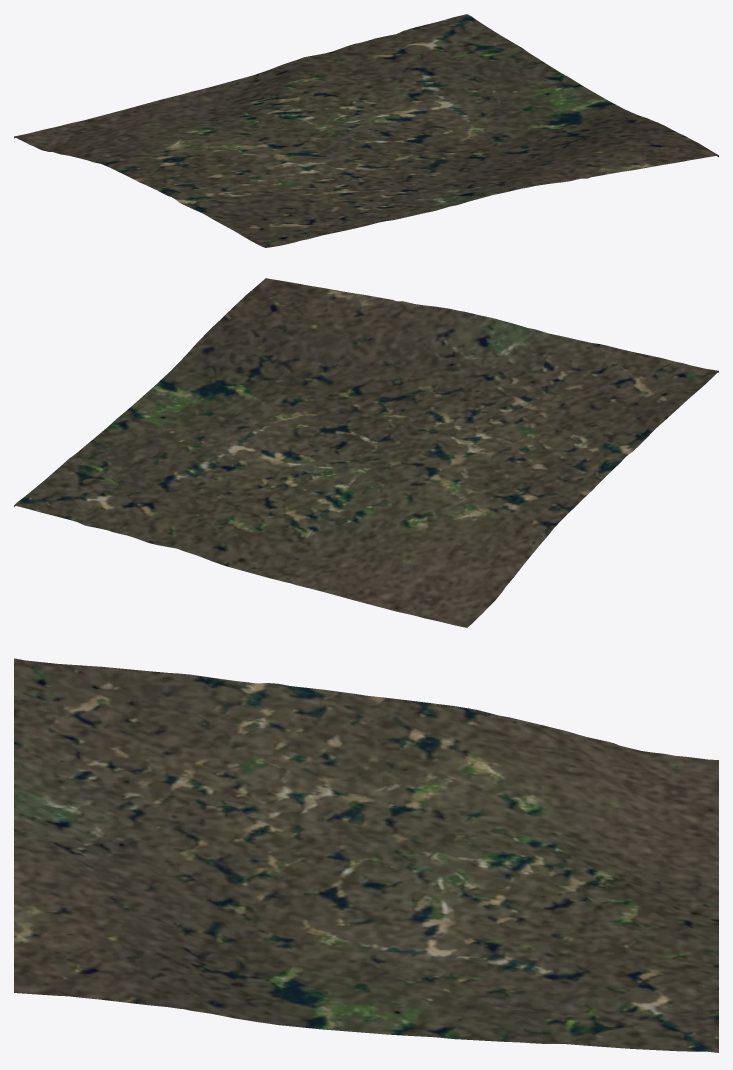
3 views of the same model, one above another, from view 1: azimuth 30°, elevation 25°; view 2: azimuth 150°, elevation 25°; view 3: azimuth 270°, elevation 25° (orthographic). The views are drawn at different scales.
Size of the model in its own units: 250 by 39.83 by 241.
1 material, 1 textured.
